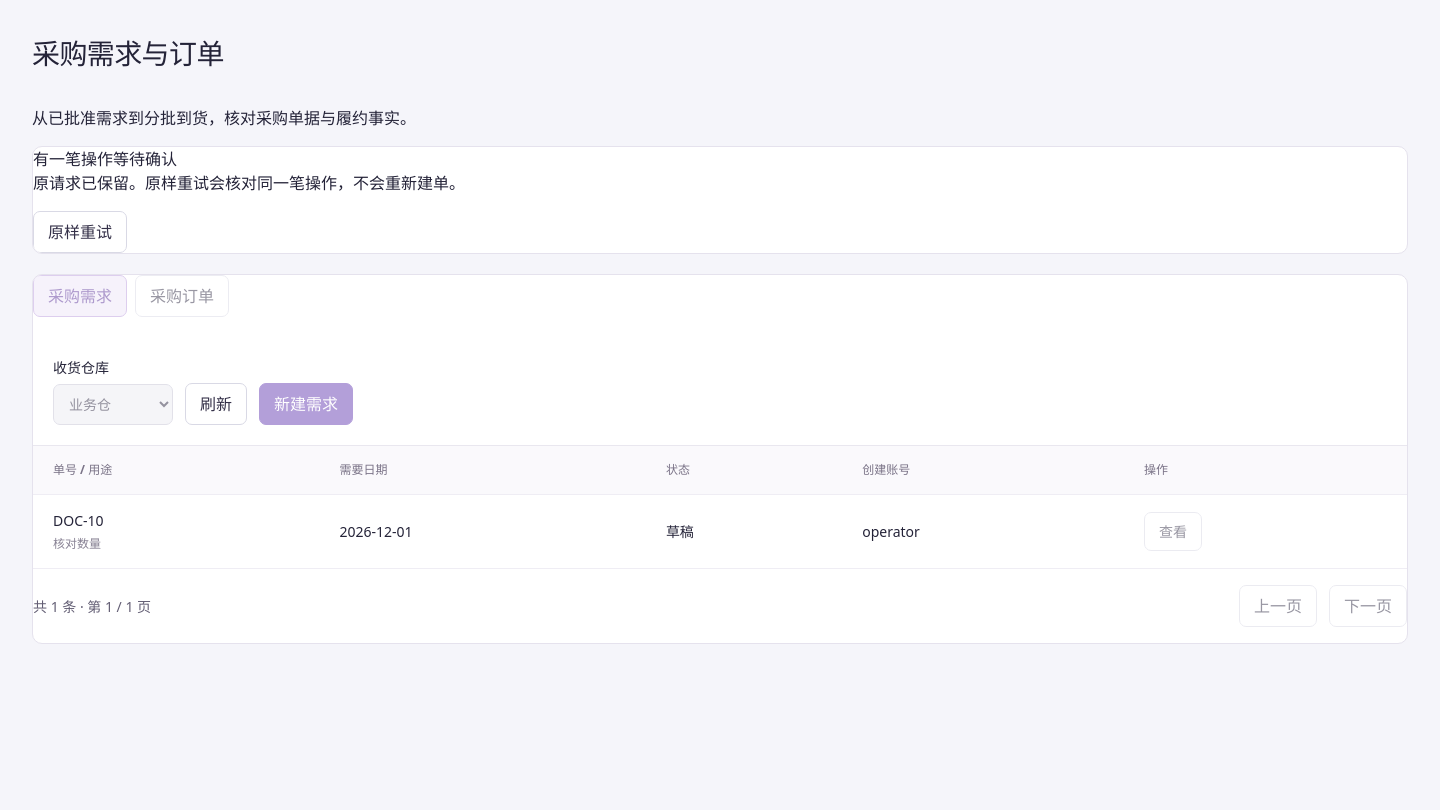
purchasing document recovery › does not discard an uncertain operation after HTTP 401 on retry
Click the button "原样重试" at (80, 232), box [33,211,127,253]
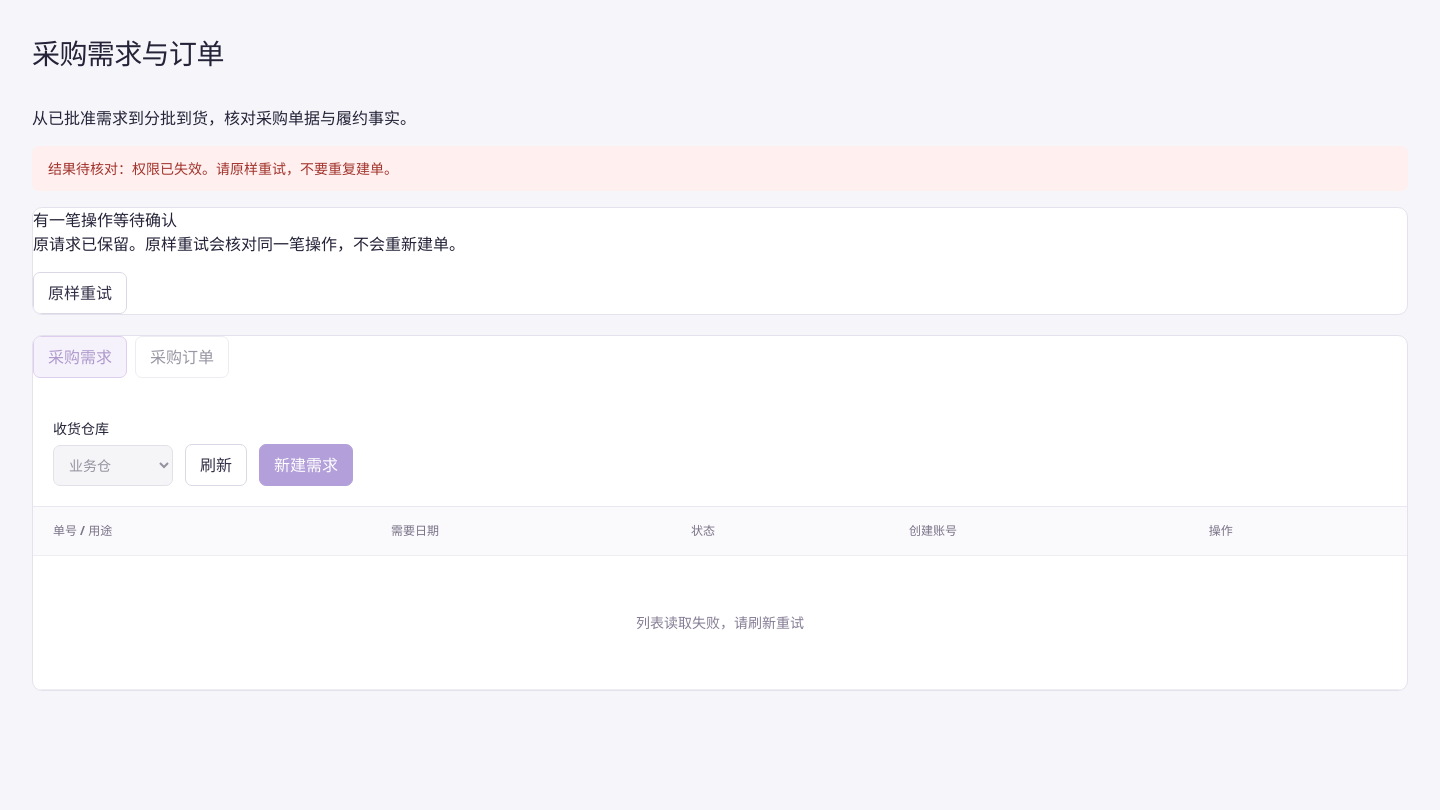
Expected: the text "结果待核对" is shown, [48,159,398,178]
